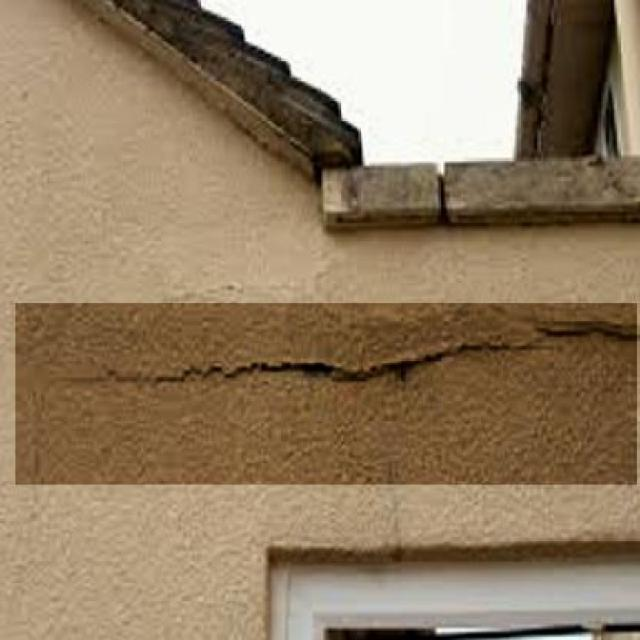Crack: (236, 310, 640, 433), (59, 348, 189, 404)
